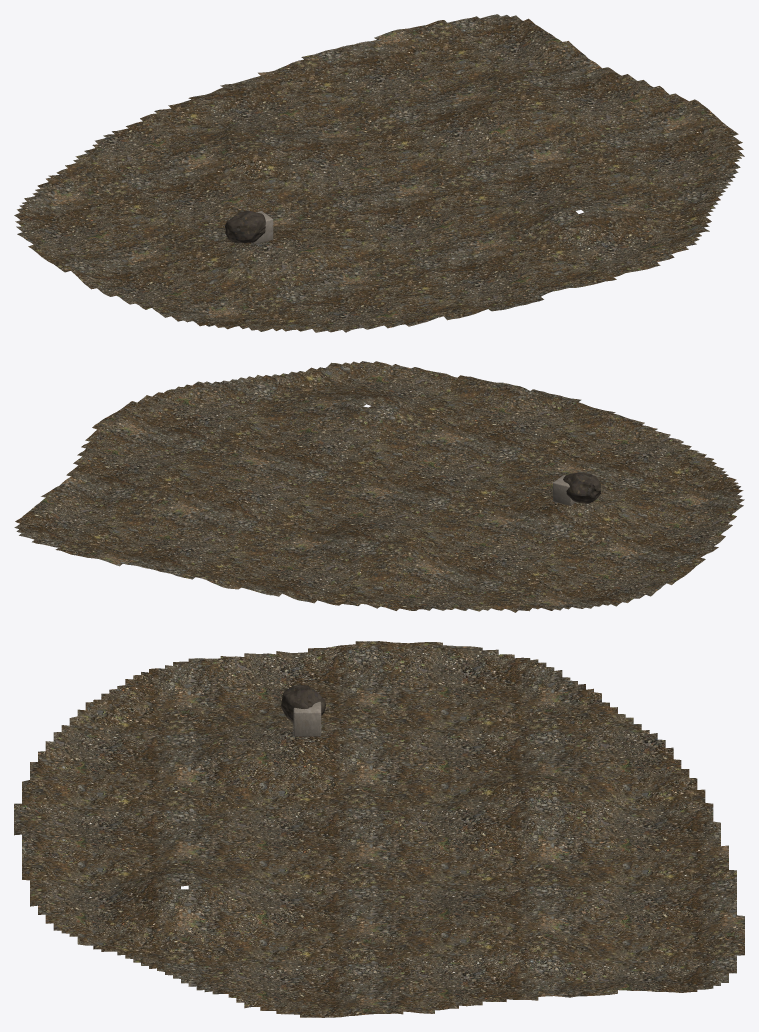
3 views of the same model, one above another, from view 1: azimuth 30°, elevation 25°; view 2: azimuth 150°, elevation 25°; view 3: azimuth 270°, elevation 25° (orthographic). The views are drawn at different scales.
Parts seen in each view (by area): view 1: L01_soil_v2, A1.1_inner; view 2: L01_soil_v2, A1.1_inner; view 3: L01_soil_v2, A1.1_inner.
Boxes of the visible parts, left/top/right/bottom form: L01_soil_v2: left=14, top=14, right=744, bottom=332; A1.1_inner: left=225, top=211, right=273, bottom=244; L01_soil_v2: left=14, top=361, right=744, bottom=612; A1.1_inner: left=553, top=472, right=601, bottom=505; L01_soil_v2: left=14, top=641, right=744, bottom=1017; A1.1_inner: left=281, top=684, right=325, bottom=736.
Bounding box in the file's own units: 7.77 × 0.5543 × 6.44.
3 materials, 3 textured.
